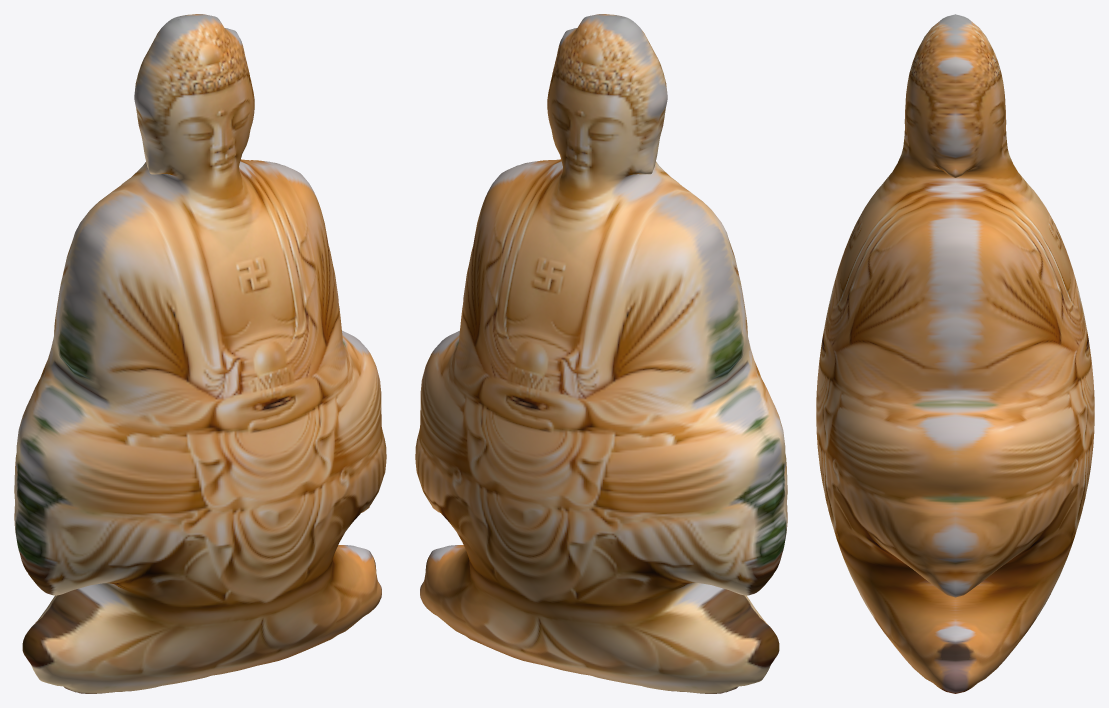
The model's file is buddhac.glb.
3 views of the same model, side by side, from view 1: azimuth 30°, elevation 25°; view 2: azimuth 150°, elevation 25°; view 3: azimuth 270°, elevation 25° (orthographic). The views are drawn at different scales.
Visible parts, largest first — view 1: 872ae1c8-ea80-405c-a2d5-63050af0de5c; view 2: 872ae1c8-ea80-405c-a2d5-63050af0de5c; view 3: 872ae1c8-ea80-405c-a2d5-63050af0de5c.
Part boxes in pixels (box(x1,y1,x2,y2)): 872ae1c8-ea80-405c-a2d5-63050af0de5c: box(14, 14, 386, 693); 872ae1c8-ea80-405c-a2d5-63050af0de5c: box(415, 14, 787, 693); 872ae1c8-ea80-405c-a2d5-63050af0de5c: box(816, 14, 1094, 693).
Bounding box in the file's own units: 0.2839 × 0.5004 × 0.2063.
Materials: 1 (1 with a texture image).
